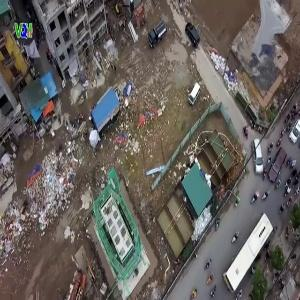drone: (241, 31, 289, 79)
